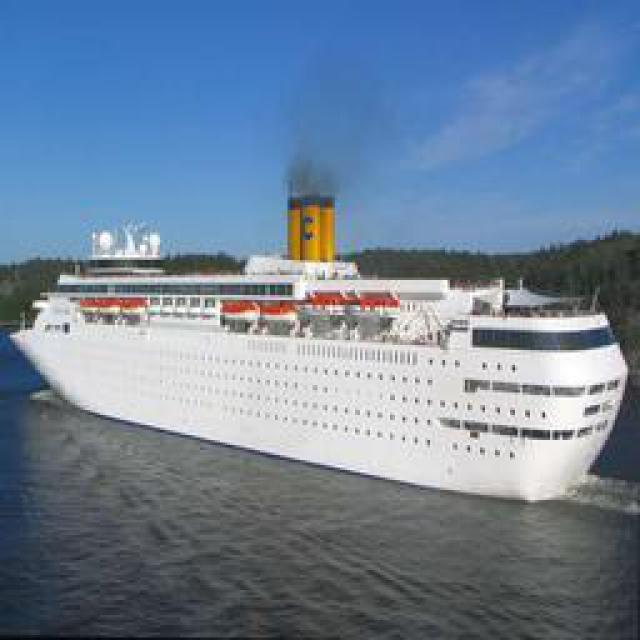Ship: (26, 270, 629, 505)
